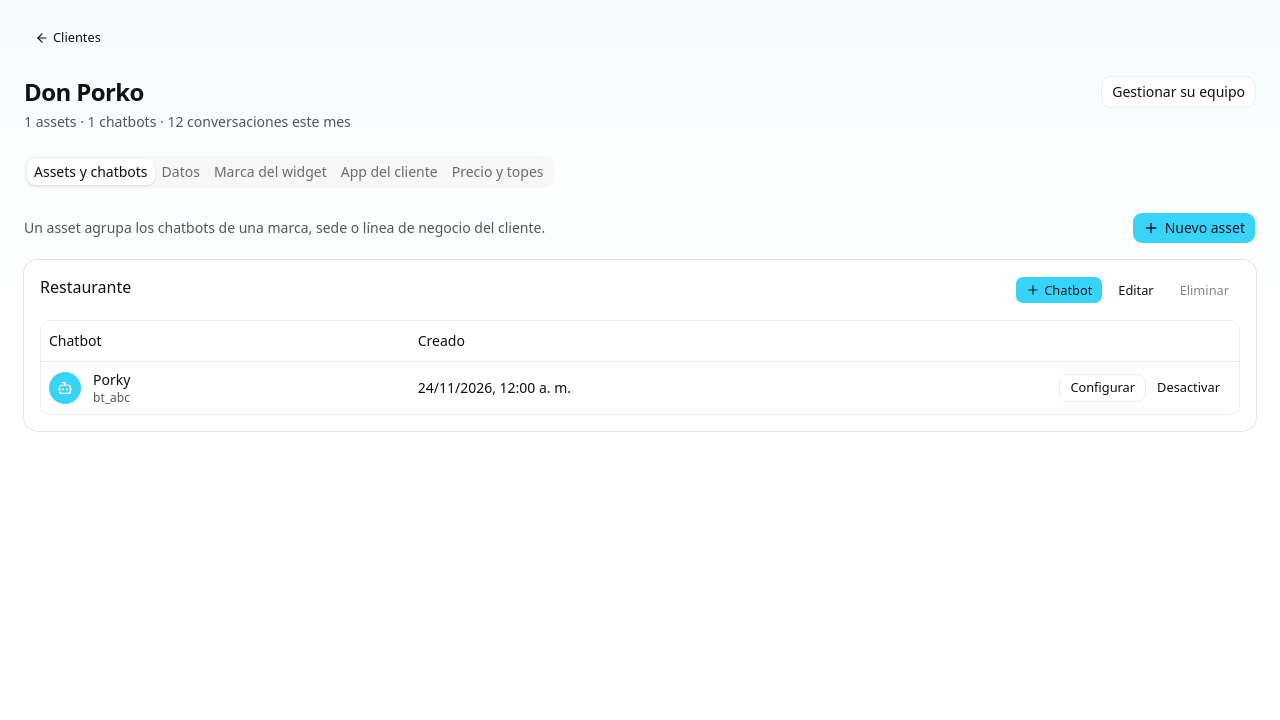
Scenario: agencia › la ficha del cliente muestra sus assets con sus chatbots y arranca ilimitado
Check: the text "Restaurante" is shown, box [40, 276, 131, 298]
Check: the link "Porky" is shown, box [93, 370, 130, 388]
Click the tab "Precio y topes" at (498, 172), box [445, 159, 550, 185]
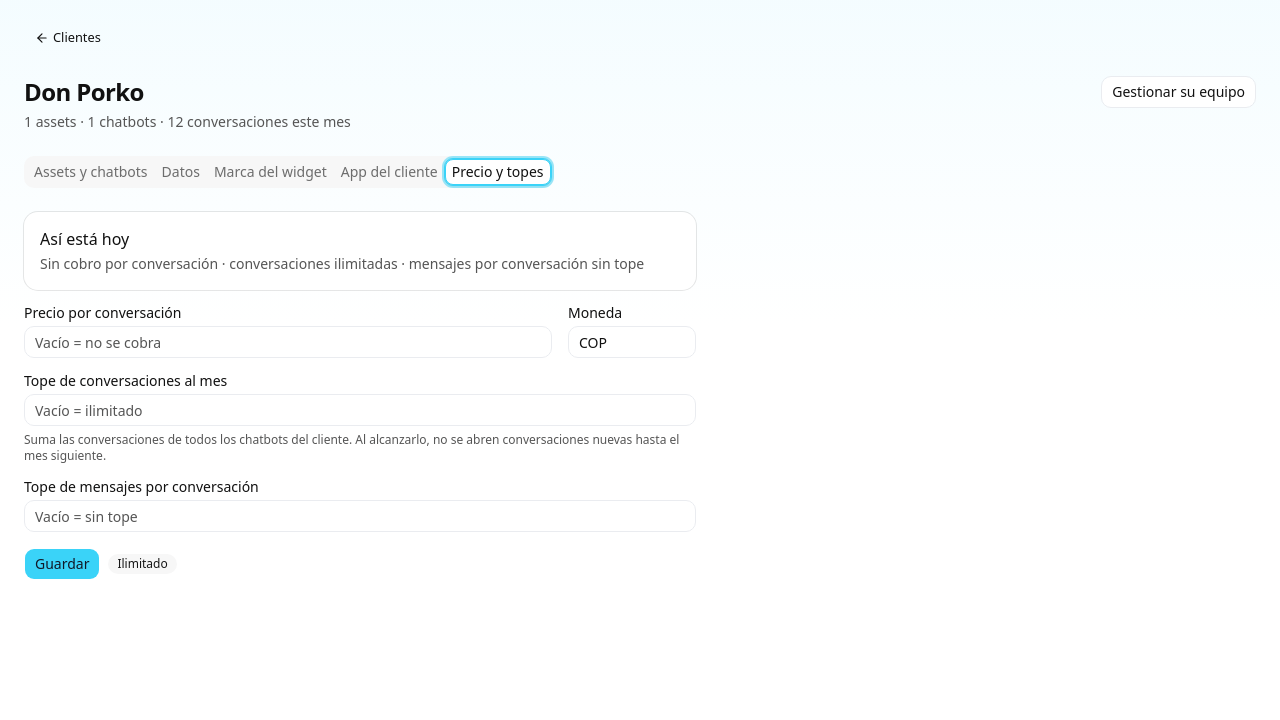
Check: the text "conversaciones ilimitadas" is shown, box [229, 254, 398, 273]
